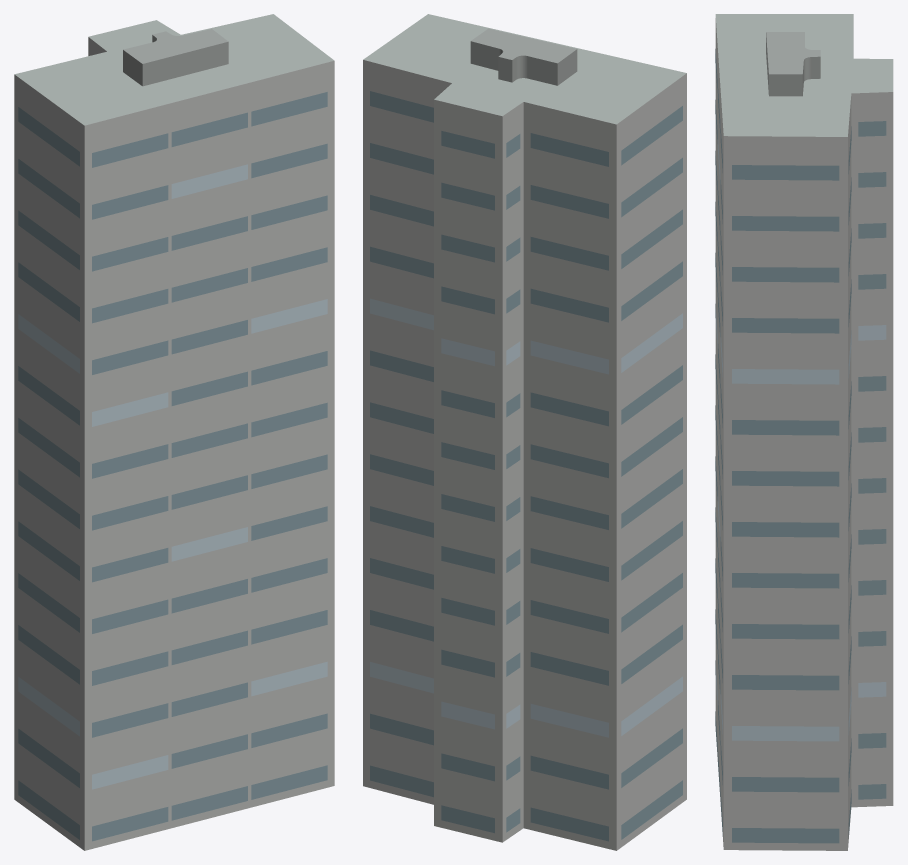
The model's file is fallback-gangdong-lotte-castle-first-131.glb.
The picture shows the model from 3 angles, left to right: view 1: azimuth 30°, elevation 25°; view 2: azimuth 150°, elevation 25°; view 3: azimuth 270°, elevation 25°; orthographic projection.
Visible parts, largest first — view 1: fallback-gangdong-lotte-castle-first-131; view 2: fallback-gangdong-lotte-castle-first-131; view 3: fallback-gangdong-lotte-castle-first-131.
Part boxes in pixels (box(x1,y1,x2,y2)): fallback-gangdong-lotte-castle-first-131: box(14, 14, 334, 850); fallback-gangdong-lotte-castle-first-131: box(363, 14, 686, 850); fallback-gangdong-lotte-castle-first-131: box(715, 14, 893, 850).
Bounding box in the file's own units: 28.76 × 80 × 17.57.
